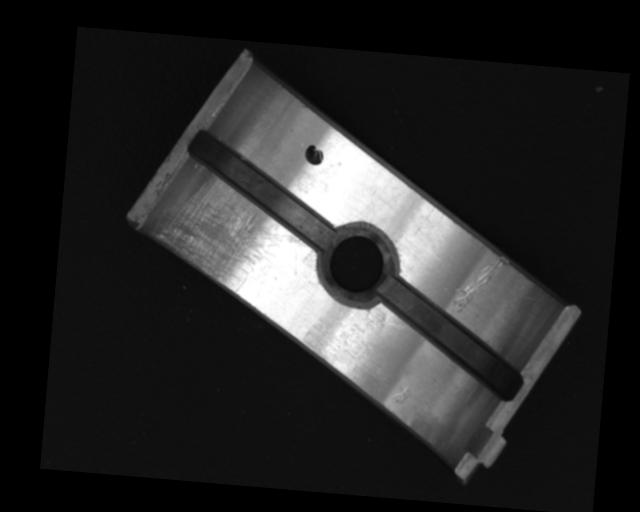blot: (303, 143, 324, 165)
bruise: (390, 382, 410, 405)
gap: (371, 277, 532, 402), (180, 131, 340, 249)
hole: (315, 222, 402, 310)
nick: (450, 250, 509, 317)
scratch: (146, 173, 303, 302)
